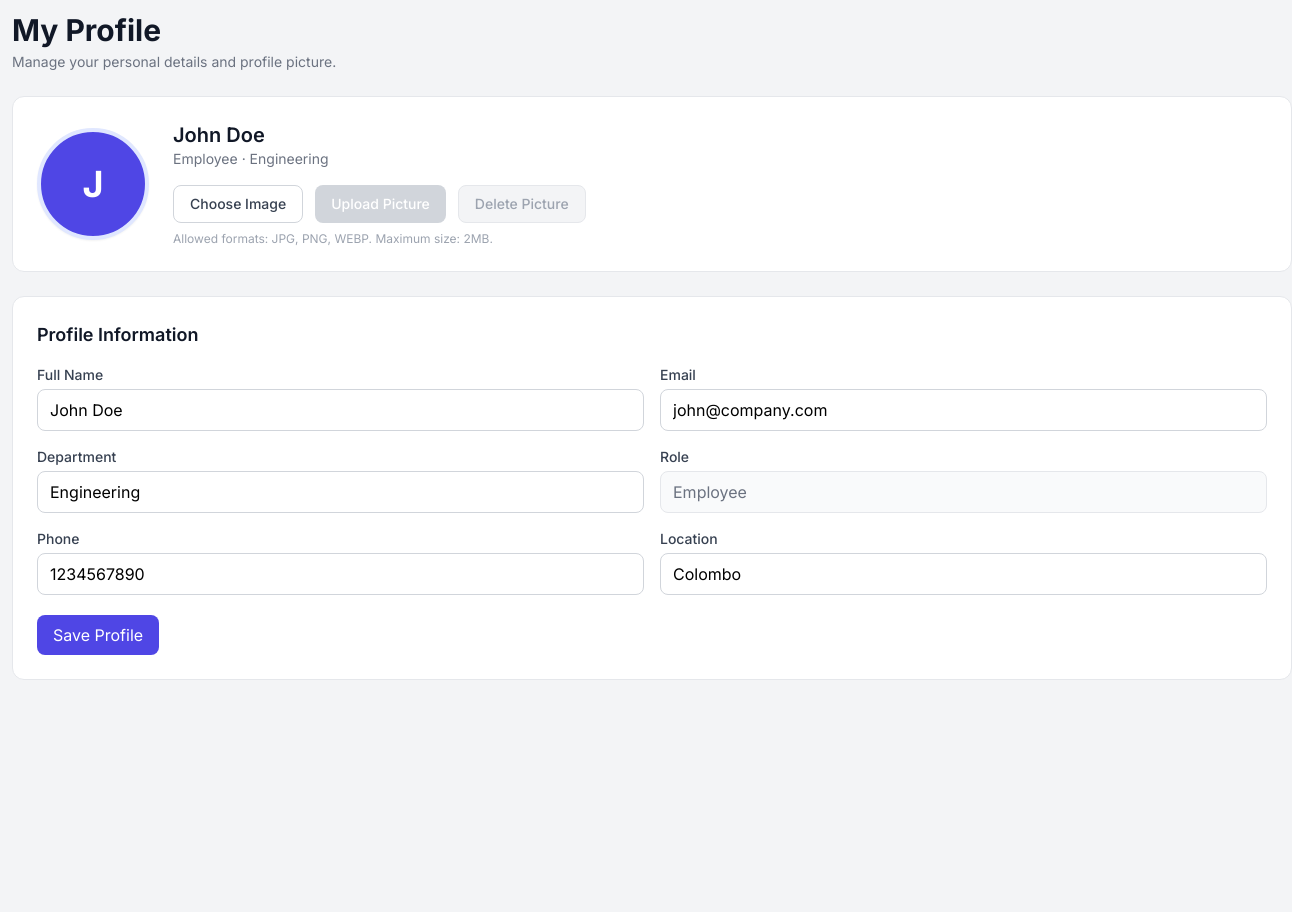
Scenario: Profile Component Deep Tests › updates profile successfully
This screenshot has width=1292, height=912.
Replace the text in the field showing "John Doe" below "Full Name" with "John Updated": (340, 410) [37,389,644,431]
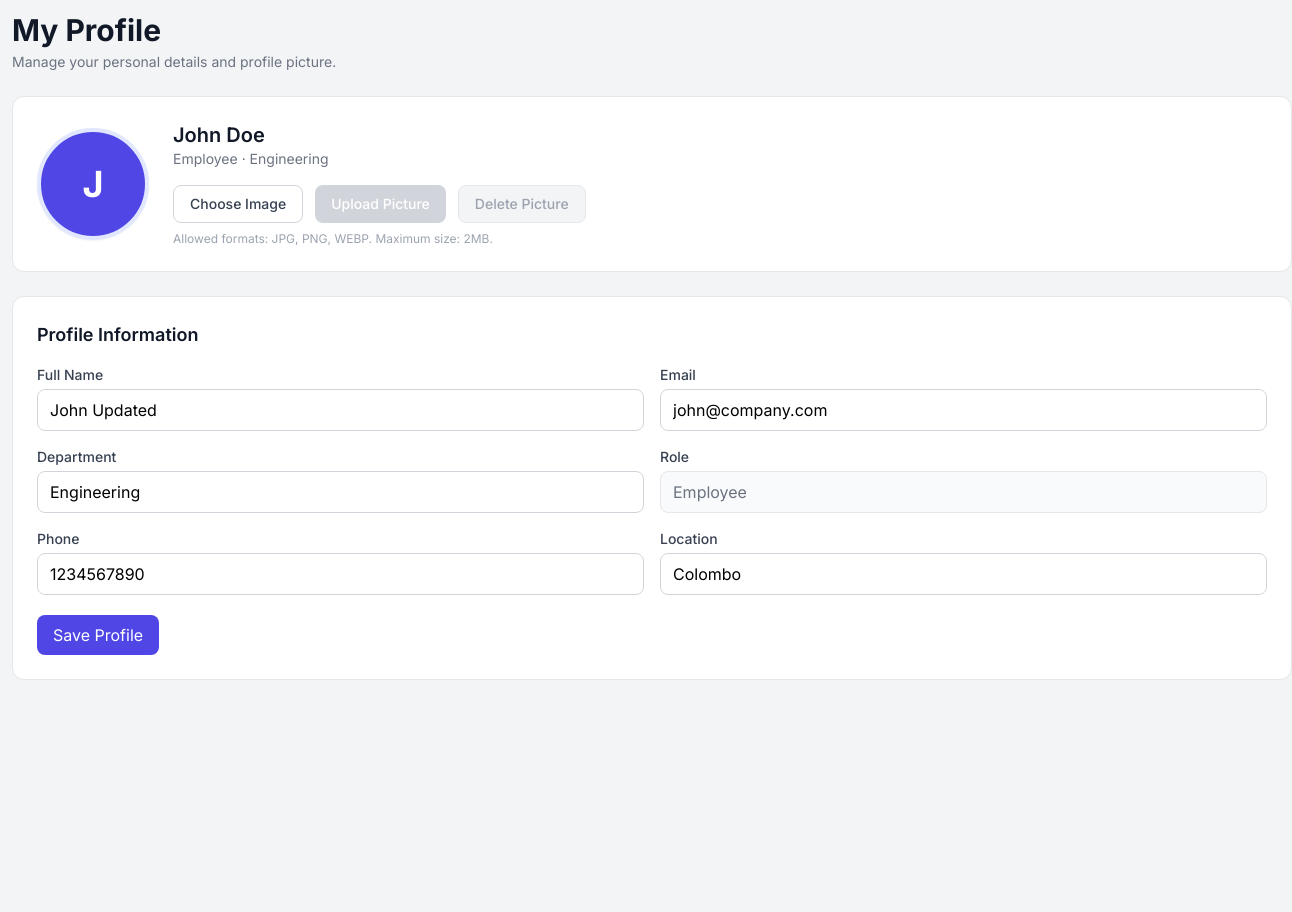
Click the button "Save Profile": click(98, 635) [37,615,159,655]
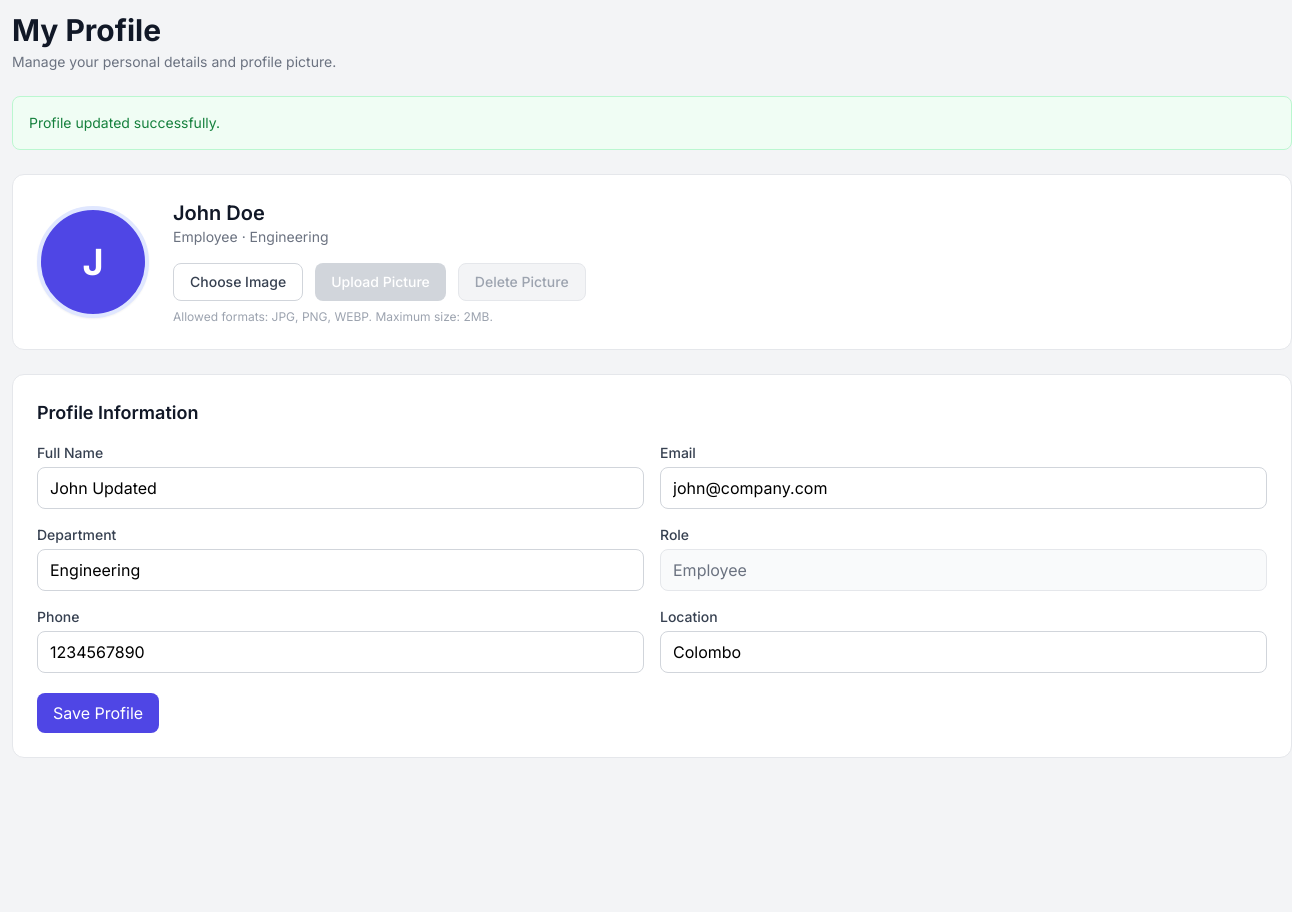
Result: the text "Profile updated successfully." is shown at [12,96,1291,150]
